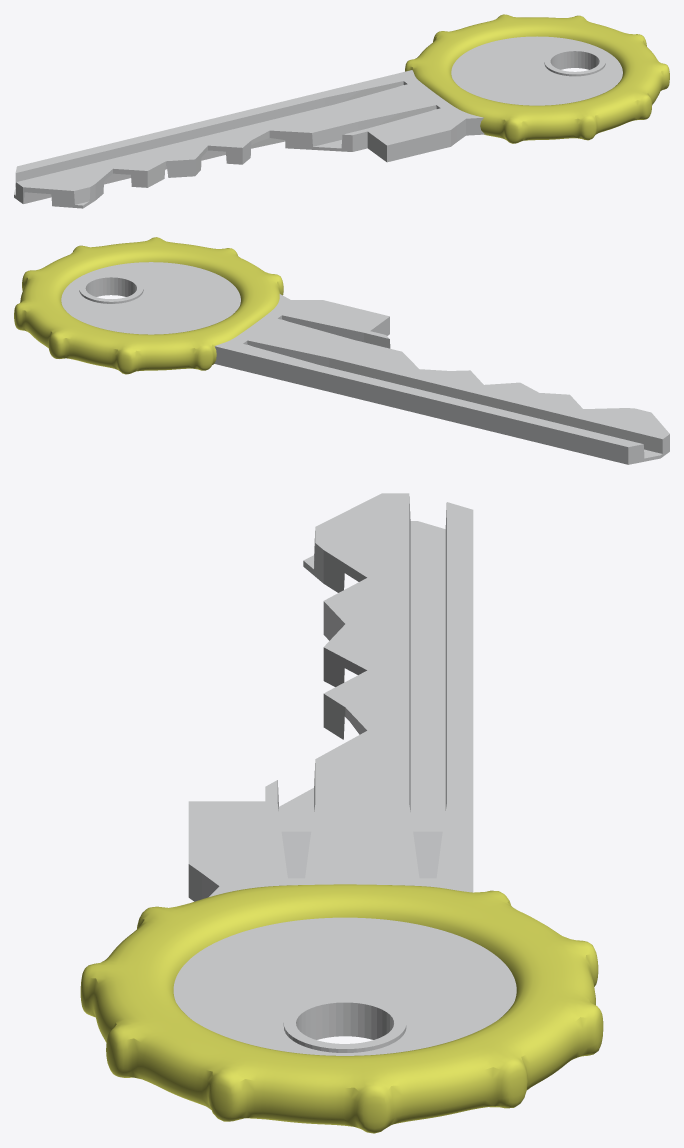
File: keyYellow.fbx
3 renders of one model, top to bottom at view 1: azimuth 30°, elevation 25°; view 2: azimuth 150°, elevation 25°; view 3: azimuth 270°, elevation 25°, orthographic. The views are drawn at different scales.
Visible parts, largest first — view 1: Cylinder.011, Cylinder.015; view 2: Cylinder.011, Cylinder.015; view 3: Cylinder.011, Cylinder.015.
Part boxes in pixels (x1=…): Cylinder.011: x1=14, y1=36, x2=622, y2=208; Cylinder.015: x1=405, y1=14, x2=669, y2=143; Cylinder.011: x1=61, y1=262, x2=669, y2=464; Cylinder.015: x1=14, y1=237, x2=283, y2=374; Cylinder.011: x1=173, y1=493, x2=516, y2=1055; Cylinder.015: x1=80, y1=884, x2=603, y2=1133.
Size of the model in its own units: 653 by 26.02 by 239.
